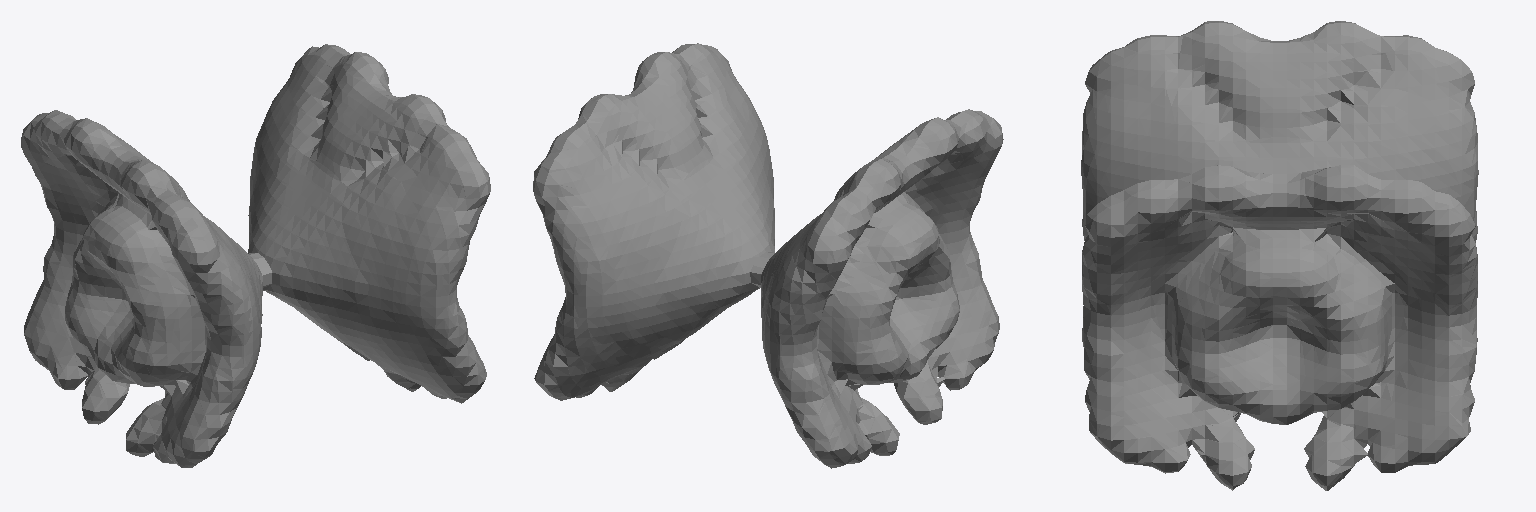
robot.urdf — cube.urdf:
<?xml version="0.0" ?> 
<robot name="cube.urdf"> 
<link name="legobrick"> 
<contact> 
<lateral_friction value="5.0"/> 
<rolling_friction value="0.0"/> 
<contact_cfm value="0.0"/> 
<contact_erp value="1.0"/> 
</contact> 
<inertial> 
<origin rpy="0 0 0" xyz="0.0 0.0 0.0"/> 
<mass value=".01"/> 
<inertia ixx="1" ixy="0" ixz="0" iyy="1" iyz="0" izz="1"/> 
</inertial> 
<visual> 
<origin rpy="1.570796 0 0" xyz="-0.02631758335382615 0.026327952589591093 -0.029025708278187082"/> 
<geometry> 
<mesh filename="T21_1.obj" scale="0.0006346898912518612 0.0006346898912518612 0.0006346898912518612"/> 
</geometry> 
<material name="yellow"> 
<color rgba="0.6 0.6 0.6 1"/> 
</material> 
</visual> 
<collision> 
<origin rpy="1.570796 0 0" xyz="-0.02631758335382615 0.026327952589591093 -0.029025708278187082"/> 
<geometry> 
<mesh filename="T21_1.obj" scale="0.0006346898912518612 0.0006346898912518612 0.0006346898912518612"/> 
</geometry> 
</collision> 
</link> 
</robot>

--- Render facts (derived) ---
Views: 3 orthographic renders of the robot side by side, from view 1: azimuth 30°, elevation 25°; view 2: azimuth 150°, elevation 25°; view 3: azimuth 270°, elevation 25°.
Robot: cube.urdf — 1 links, 0 joints (none); root link legobrick; default pose: all joints at 0.
Visible links, largest first — view 1: legobrick; view 2: legobrick; view 3: legobrick.
Boxes of the visible links, <box> form: legobrick: <box>21,44,490,467</box>; legobrick: <box>533,43,1003,468</box>; legobrick: <box>1081,21,1478,490</box>.
Size in the robot's own frame: 0.056 by 0.056 by 0.0508 metres.
1 mesh visuals loaded from 1 distinct referenced files (1 OBJ).
